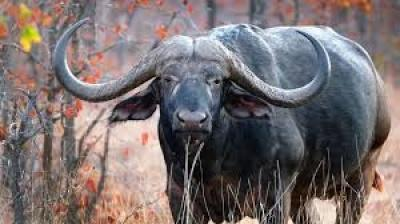buffalo: (54, 21, 390, 217)
